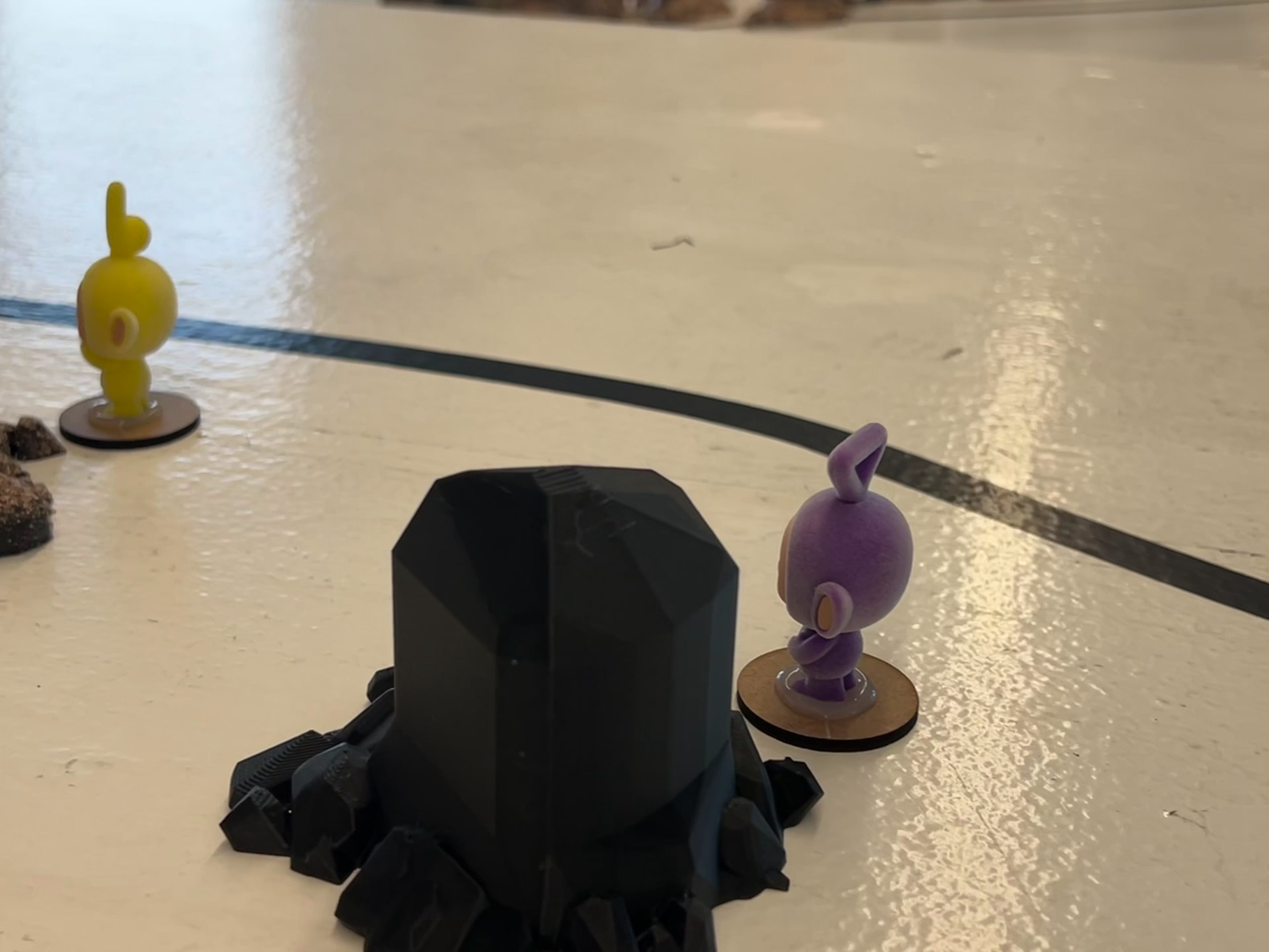teletubby: (778, 424, 912, 703), (77, 183, 176, 421)
